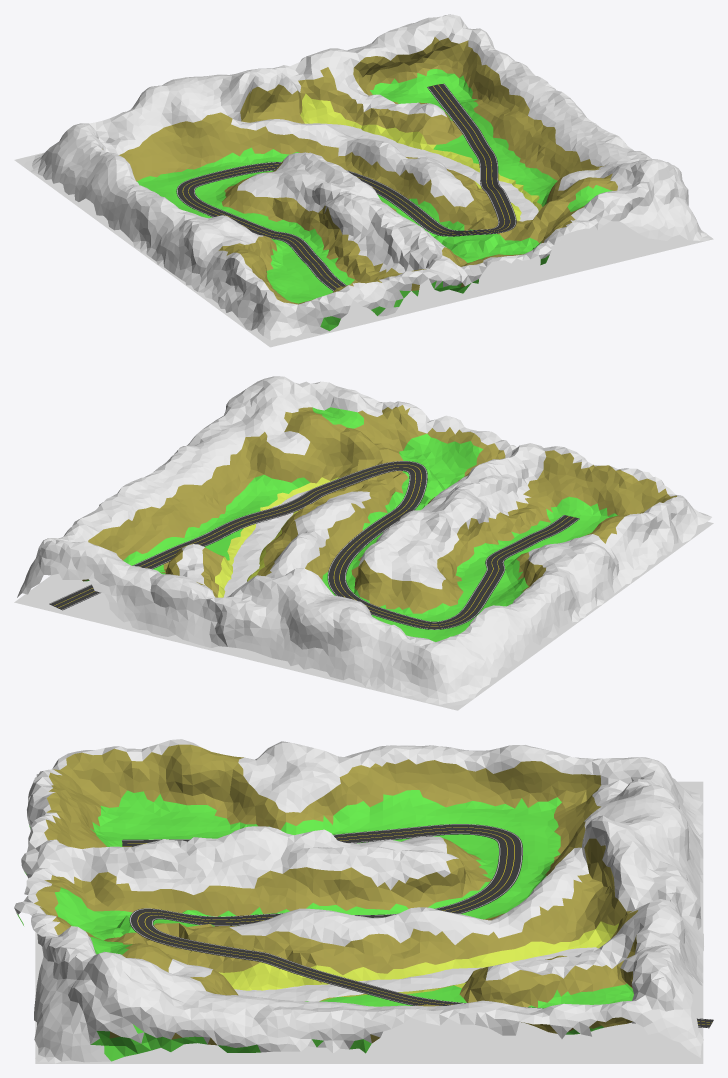
File: Level1Terrain.fbx
The picture shows the model from 3 angles, top to bottom: view 1: azimuth 30°, elevation 25°; view 2: azimuth 150°, elevation 25°; view 3: azimuth 270°, elevation 25°; orthographic projection. The views are drawn at different scales.
Parts seen in each view (by area): view 1: Plane, Plane.001, Cube; view 2: Plane, Cube, Plane.001; view 3: Plane, Plane.001, Cube.
Part boxes in pixels (x1,y1,x2,y2): Plane: (14, 14, 710, 340); Plane.001: (15, 123, 713, 347); Cube: (176, 83, 516, 291); Plane: (17, 376, 711, 710); Cube: (49, 461, 579, 629); Plane.001: (14, 490, 713, 710); Plane: (14, 739, 703, 1063); Plane.001: (35, 781, 703, 1063); Cube: (122, 824, 713, 1028).
Bounding box in the file's own units: 4102 × 646 × 4192.
